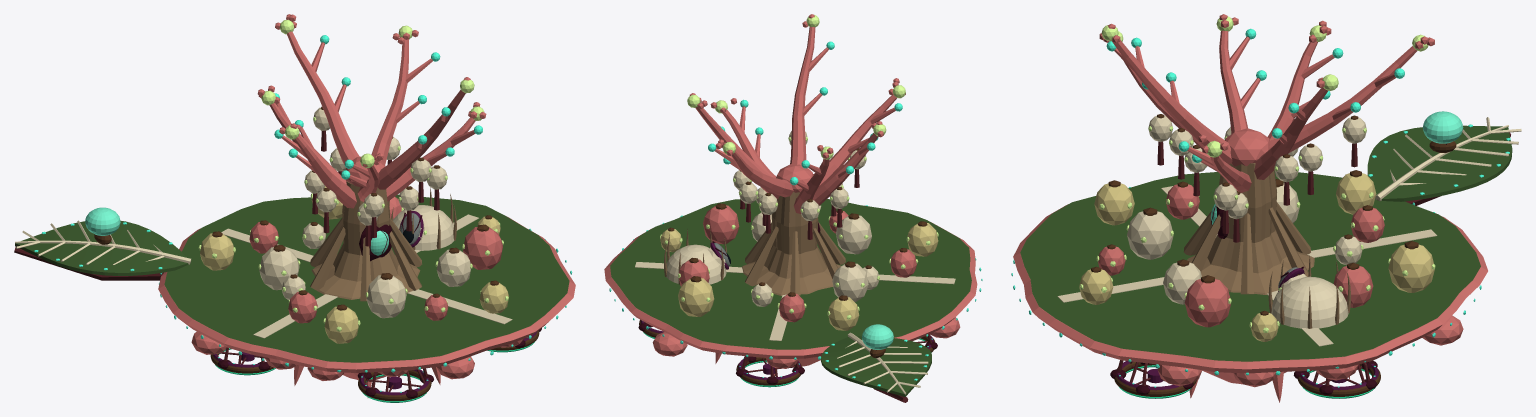
File: station_civil.obj
3 views of the same model, side by side, from view 1: azimuth 30°, elevation 25°; view 2: azimuth 150°, elevation 25°; view 3: azimuth 270°, elevation 25° (orthographic). The views are drawn at different scales.
Parts seen in each view (by area): view 1: station_civil; view 2: station_civil; view 3: station_civil.
Boxes of the visible parts, bbox=[...] form: station_civil: bbox=[14, 14, 575, 402]; station_civil: bbox=[604, 14, 982, 402]; station_civil: bbox=[1011, 14, 1521, 402].
Bounding box in the file's own units: 1400 × 1033 × 1283.
1 material, 1 textured.
